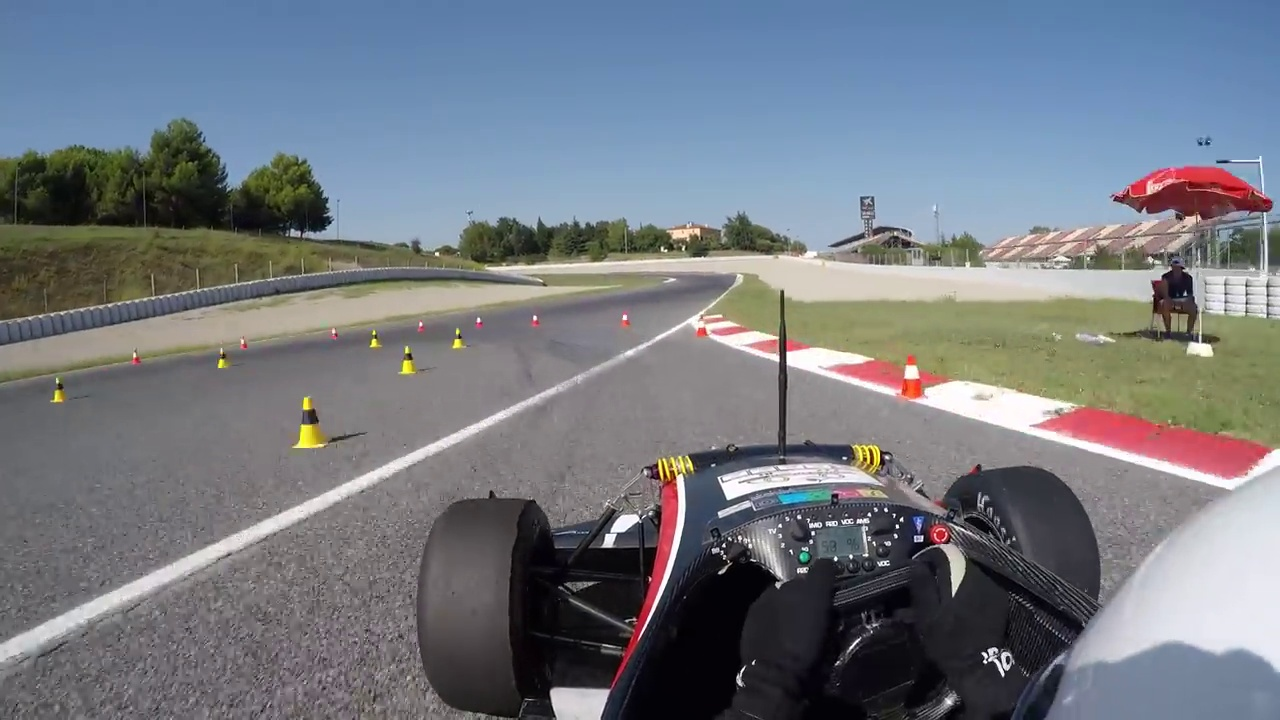Cone: (293, 391, 335, 448), (898, 353, 929, 400), (399, 345, 420, 376)
